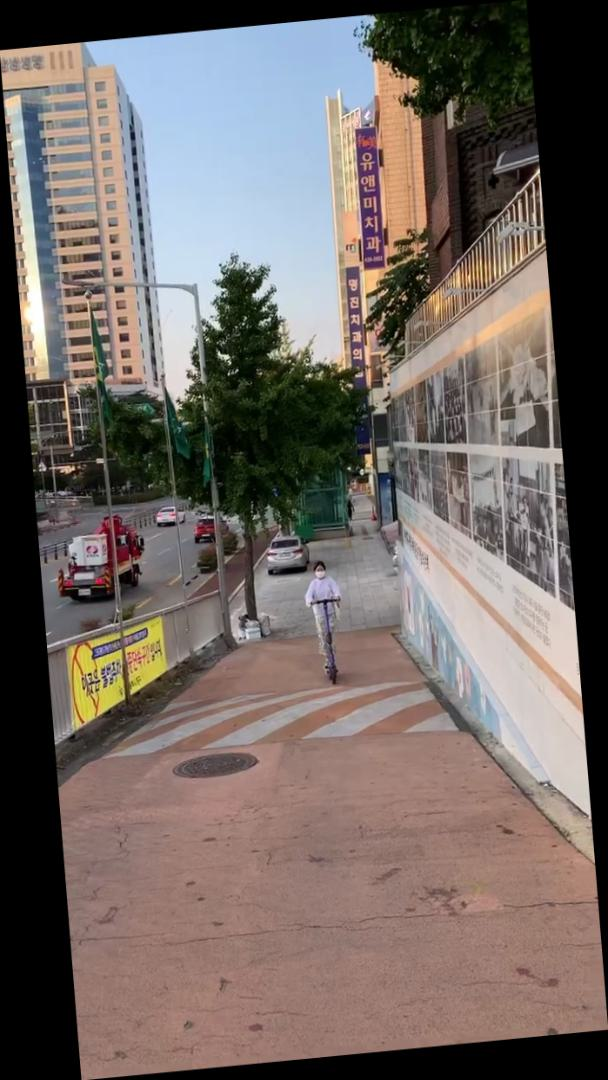nonhelmet: (301, 555, 353, 689)
